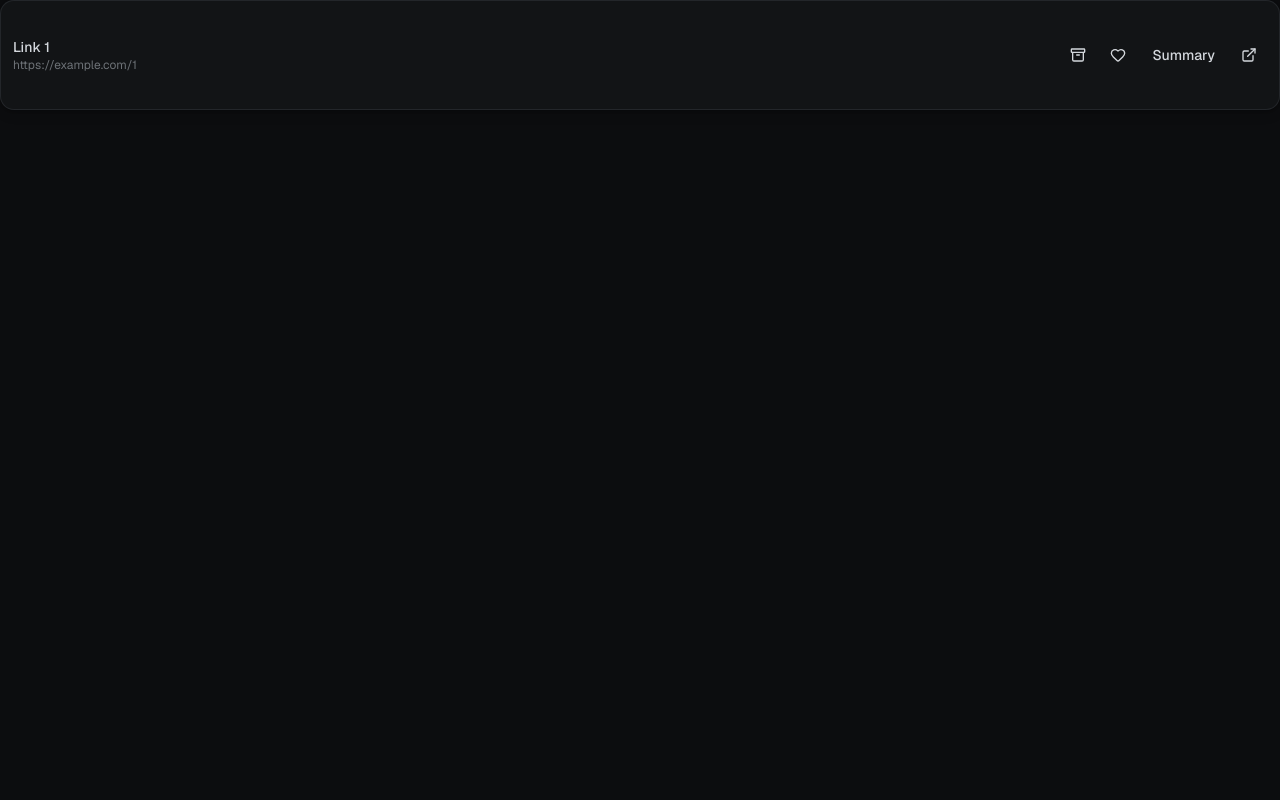
Test case: opens Summary modal from a row
Click the button "Summary": (1184, 55) top-left (1140, 39), bottom-right (1227, 71)
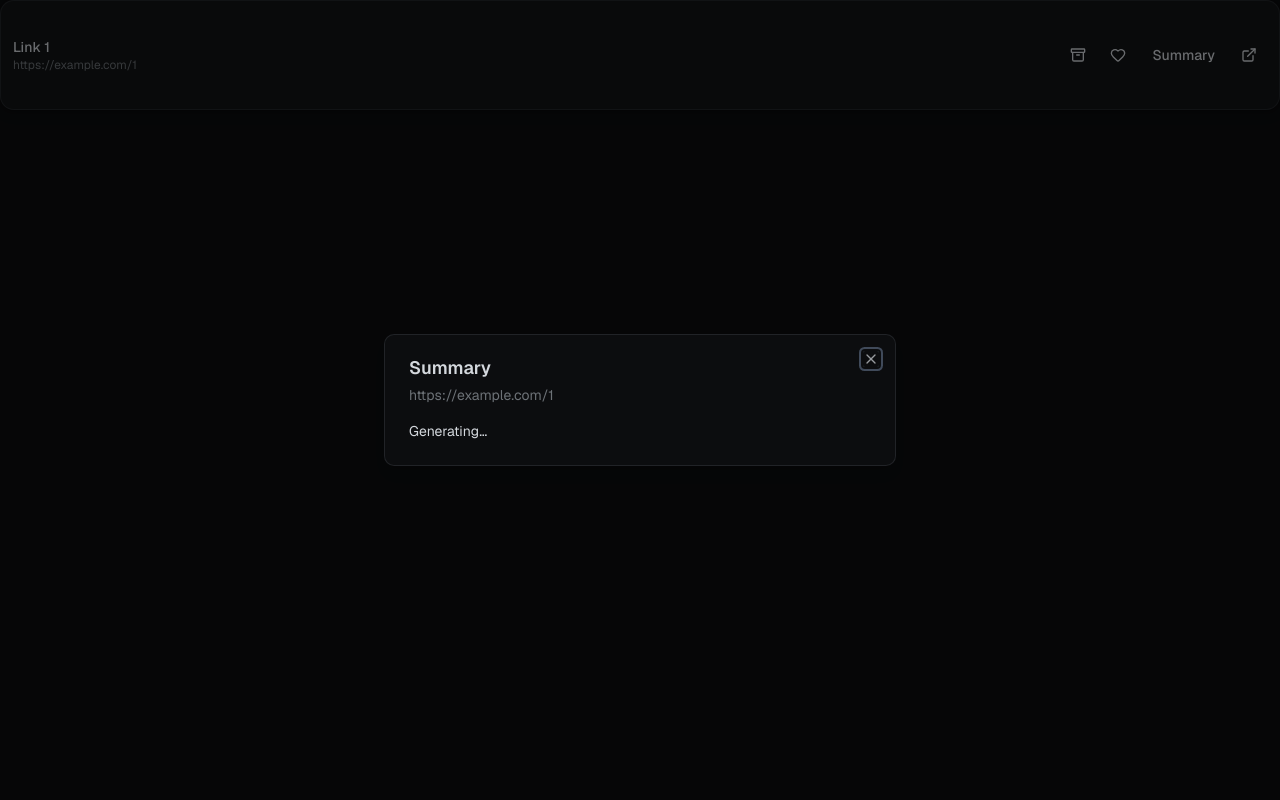
Now the text "Generating…" is shown, box top-left (409, 422), bottom-right (487, 440)
